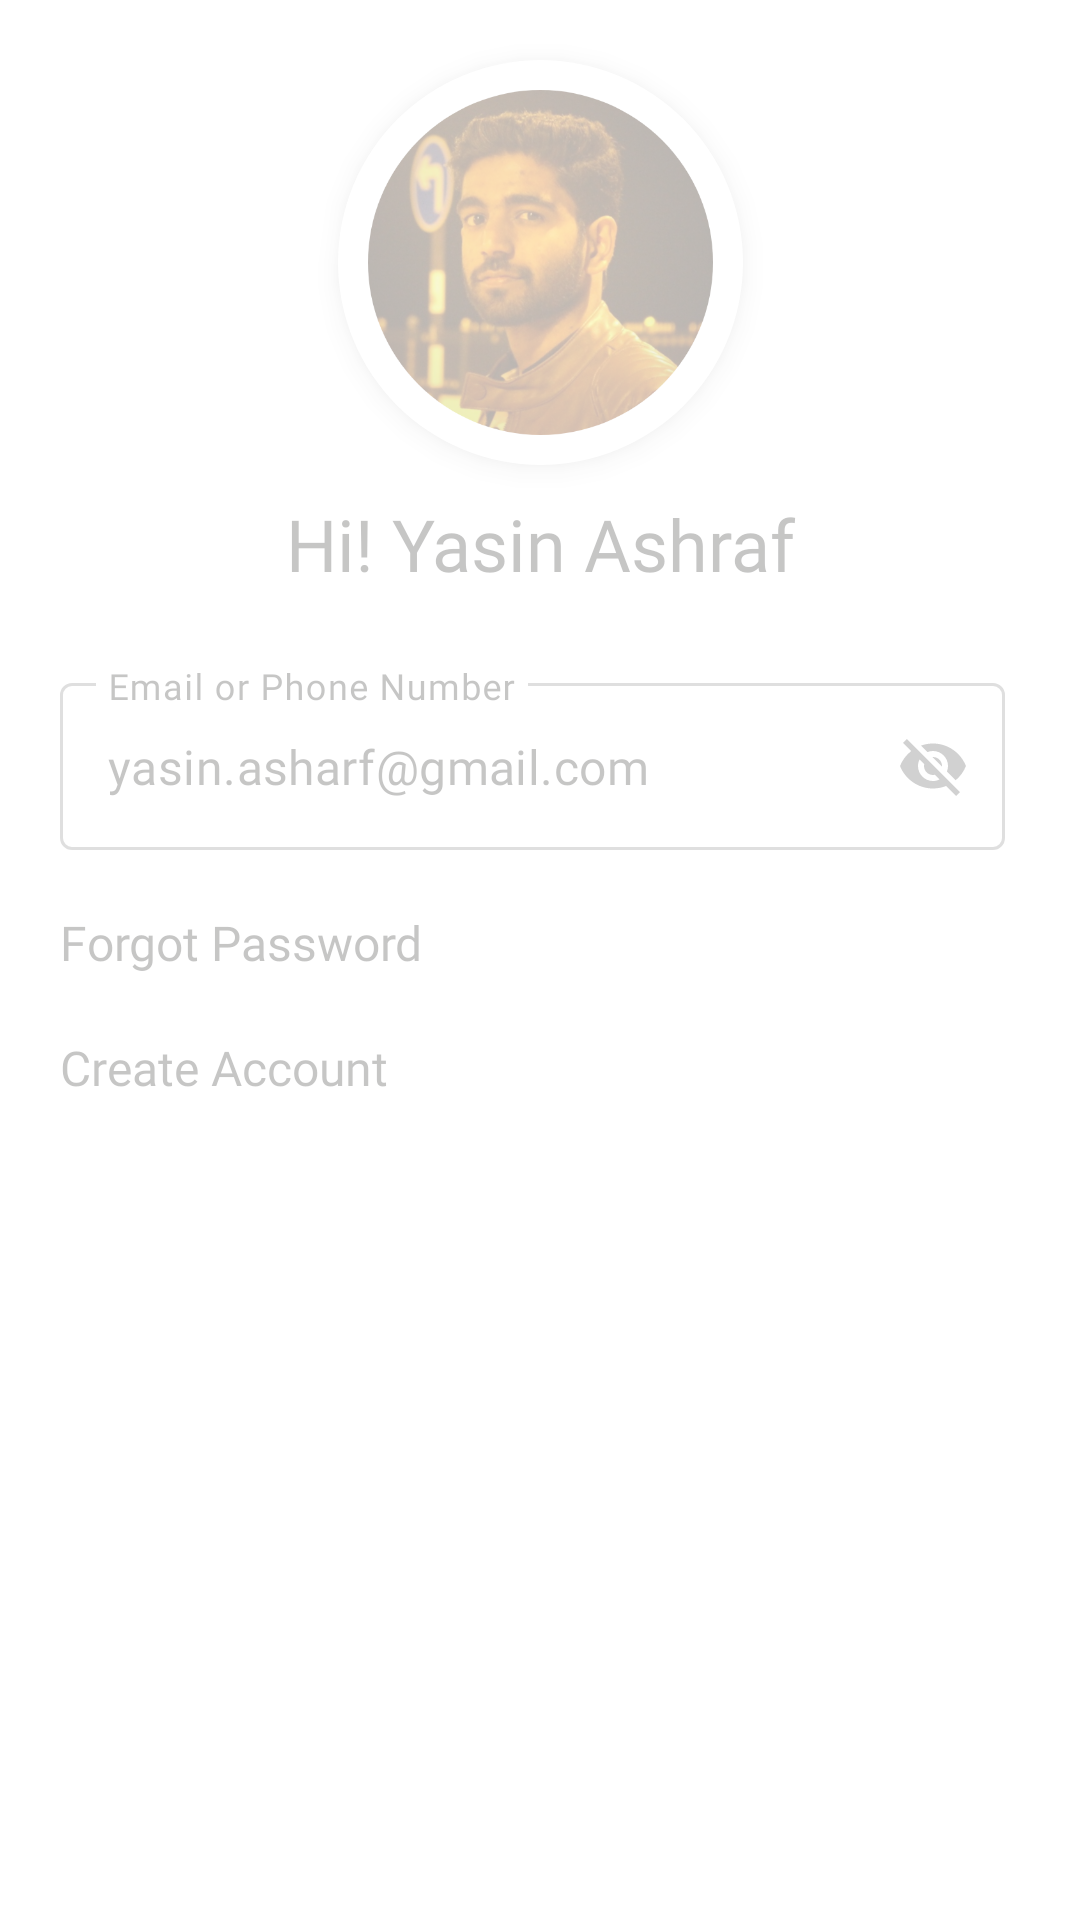

Icons on this 1080x1920 Android screen, each with its box as bbox=(x1, y1, x2, y2):
profile: bbox=(368, 90, 713, 435)
